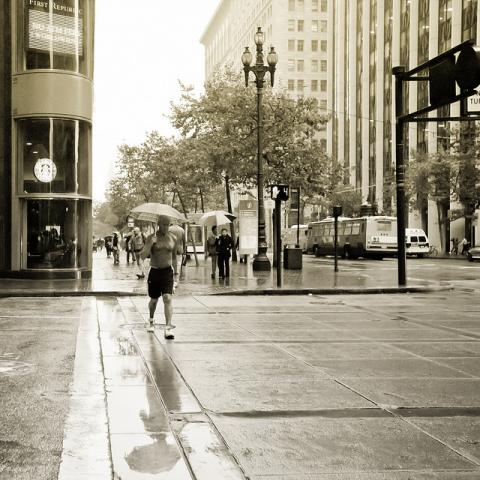bus: (307, 215, 398, 260)
car: (404, 228, 430, 257), (465, 242, 479, 262)
